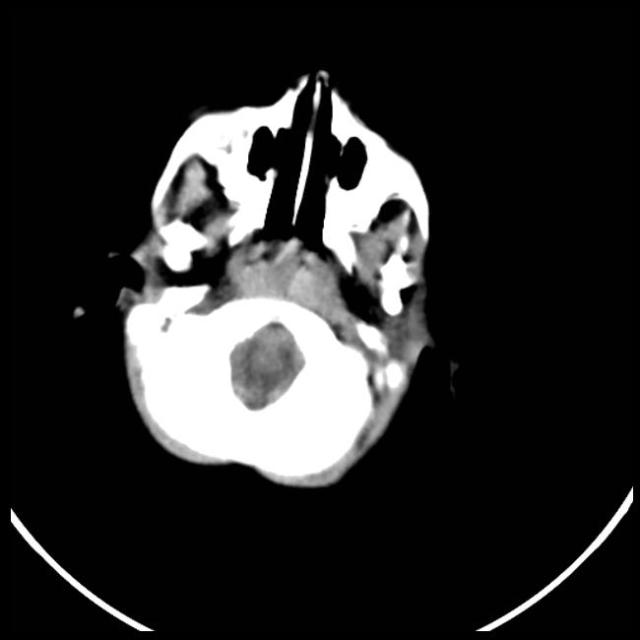lesion: (103, 65, 449, 492)
